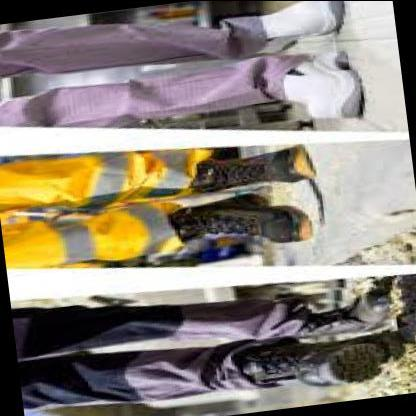safety-shoe: (249, 332, 415, 400), (184, 139, 349, 199), (182, 185, 332, 248)
